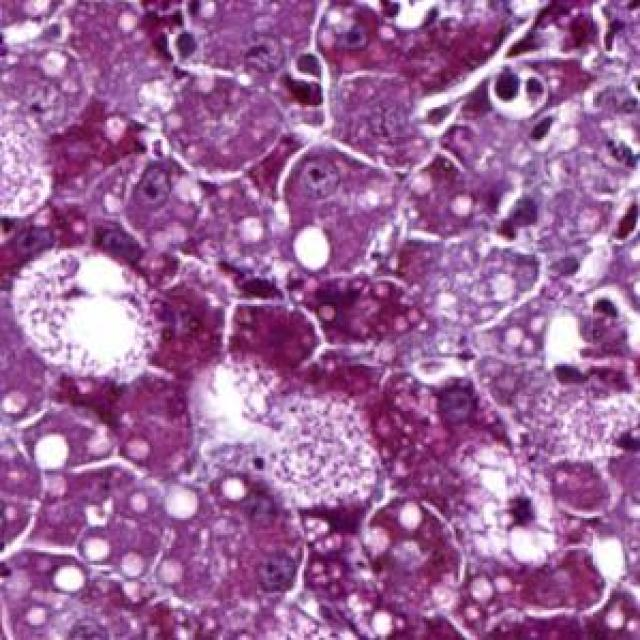ballooning: (8, 240, 165, 387), (439, 434, 569, 576)
